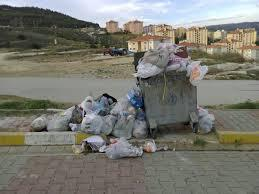Container: (141, 77, 201, 135)
Garbage: (37, 101, 138, 136), (141, 44, 204, 77), (170, 43, 211, 90), (101, 88, 129, 136), (134, 48, 169, 78), (72, 103, 98, 132), (106, 140, 138, 163), (69, 132, 107, 151), (28, 113, 50, 130), (202, 106, 213, 133), (146, 139, 163, 156)
